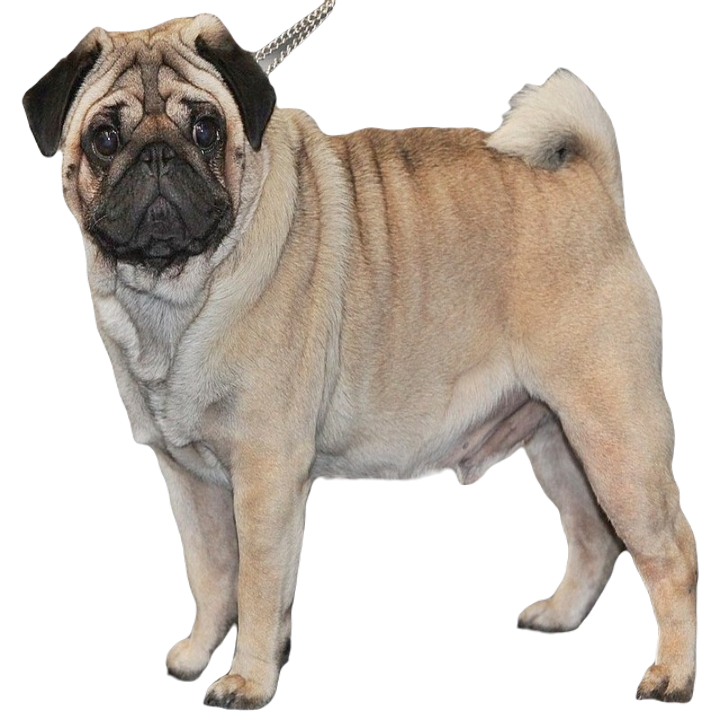Dog: (9, 16, 697, 707)
